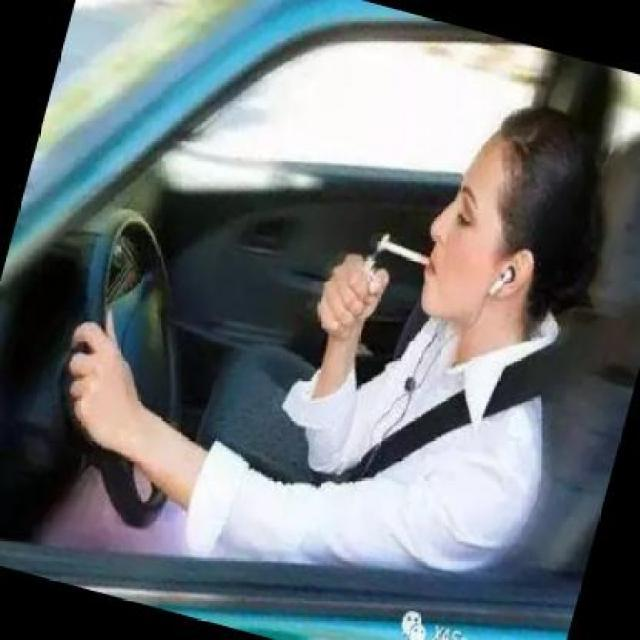smoke: (376, 236, 434, 270)
